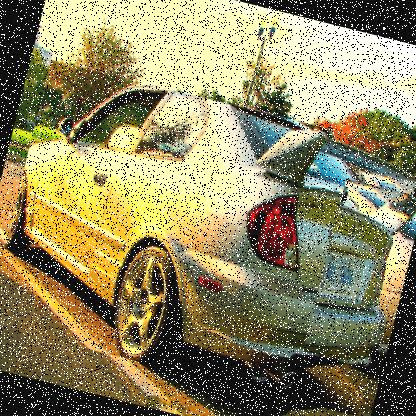Car: (0, 60, 415, 415), (301, 178, 415, 374)
